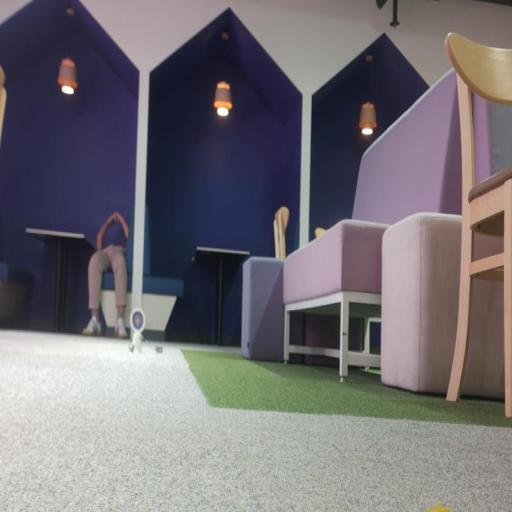target: (130, 308, 145, 334)
